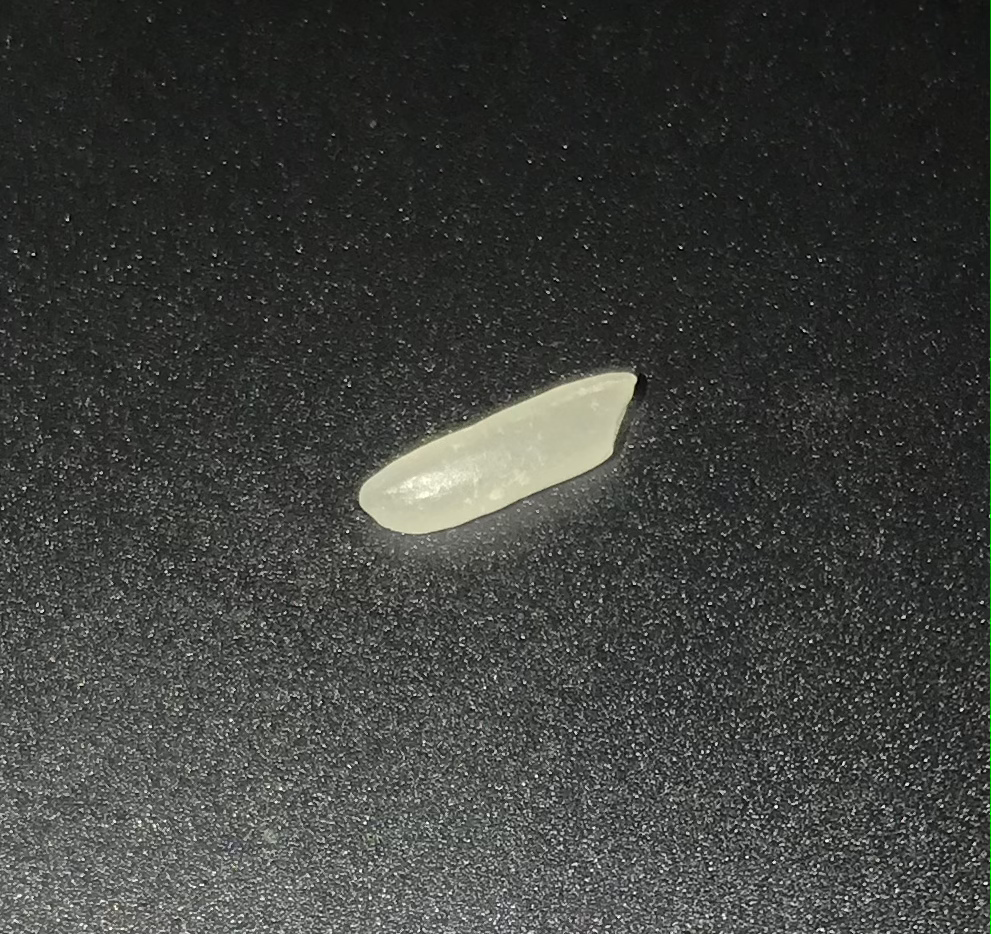Gao Thom My: (360, 371, 647, 548)
